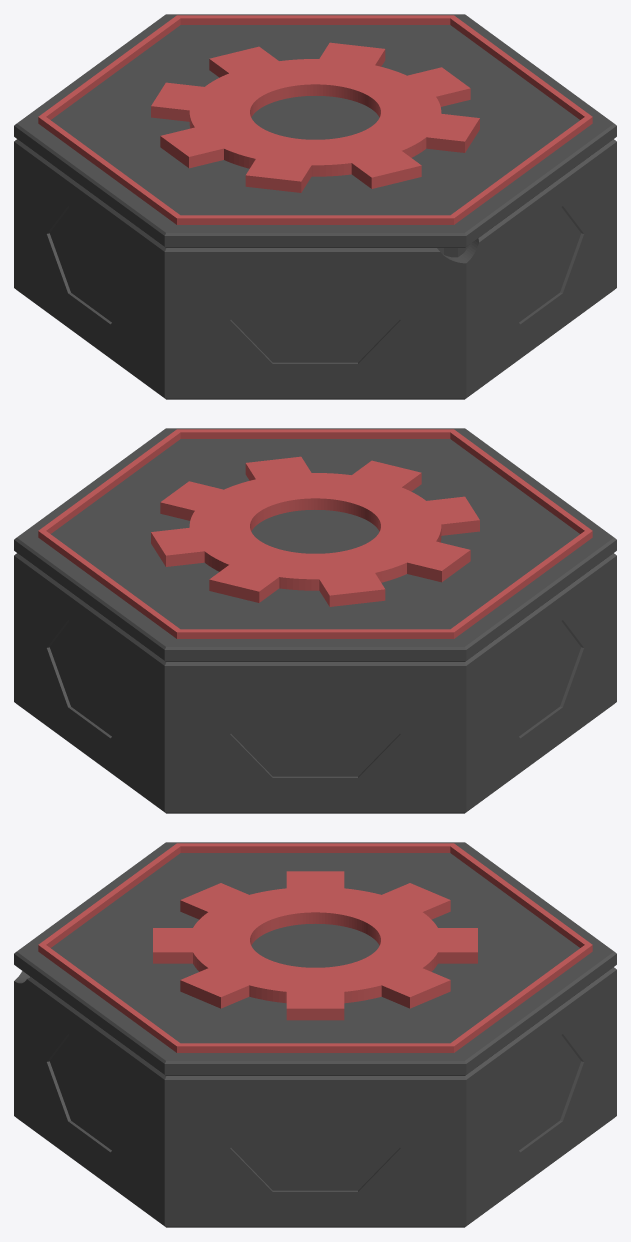
The model's file is ingegneria-montato.glb.
3 renders of one model, top to bottom at view 1: azimuth 30°, elevation 25°; view 2: azimuth 150°, elevation 25°; view 3: azimuth 270°, elevation 25°, orthographic.
Parts seen in each view (by area): view 1: 01_vaschetta_esagonale, 02_coperchio_esagonale, 04_ingranaggio, 03_cornice; view 2: 01_vaschetta_esagonale, 02_coperchio_esagonale, 04_ingranaggio, 03_cornice; view 3: 01_vaschetta_esagonale, 02_coperchio_esagonale, 04_ingranaggio, 03_cornice.
Boxes of the visible parts, x1,y1,x2,y2 form: 01_vaschetta_esagonale: (14, 139, 616, 399); 02_coperchio_esagonale: (14, 14, 616, 257); 04_ingranaggio: (151, 42, 479, 192); 03_cornice: (38, 15, 592, 224); 01_vaschetta_esagonale: (14, 553, 616, 813); 02_coperchio_esagonale: (14, 428, 616, 661); 04_ingranaggio: (151, 456, 479, 606); 03_cornice: (38, 429, 592, 638); 01_vaschetta_esagonale: (14, 967, 616, 1227); 02_coperchio_esagonale: (14, 842, 616, 1075); 04_ingranaggio: (153, 871, 477, 1020); 03_cornice: (38, 843, 592, 1052).
Bounding box in the file's own units: 0.0996 × 0.0376 × 0.115.
